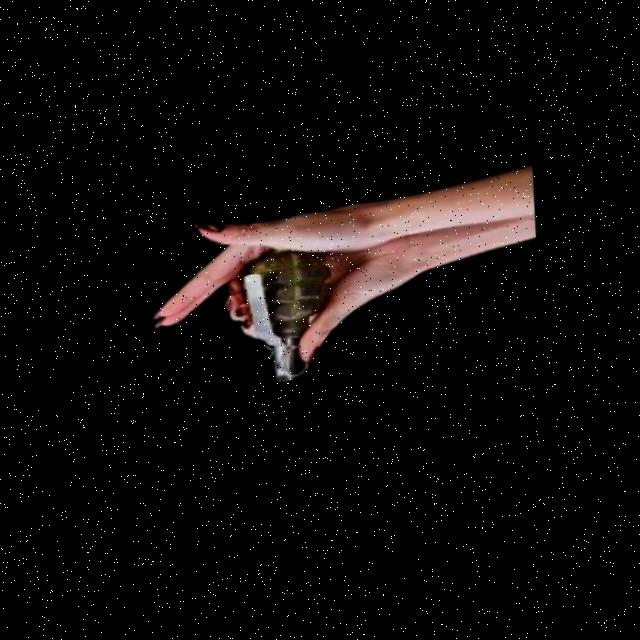grenade: (218, 233, 369, 402)
